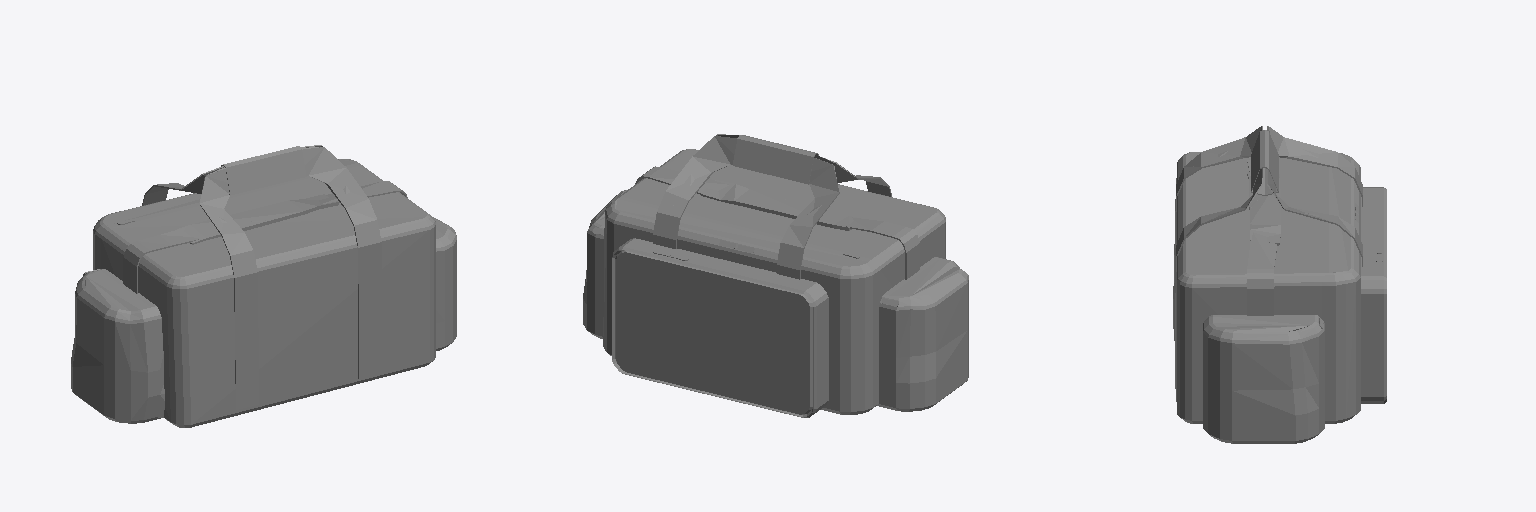
The model's file is paramedic_bag_red.obj.
3 renders of one model, left to right at view 1: azimuth 30°, elevation 25°; view 2: azimuth 150°, elevation 25°; view 3: azimuth 270°, elevation 25°, orthographic.
Parts seen in each view (by area): view 1: bag; view 2: bag; view 3: bag.
Boxes of the visible parts, x1=… form: bag: x1=71, y1=145, x2=456, y2=427; bag: x1=583, y1=134, x2=968, y2=417; bag: x1=1173, y1=126, x2=1386, y2=443.
Size of the model in its own units: 115 by 66.64 by 60.52.